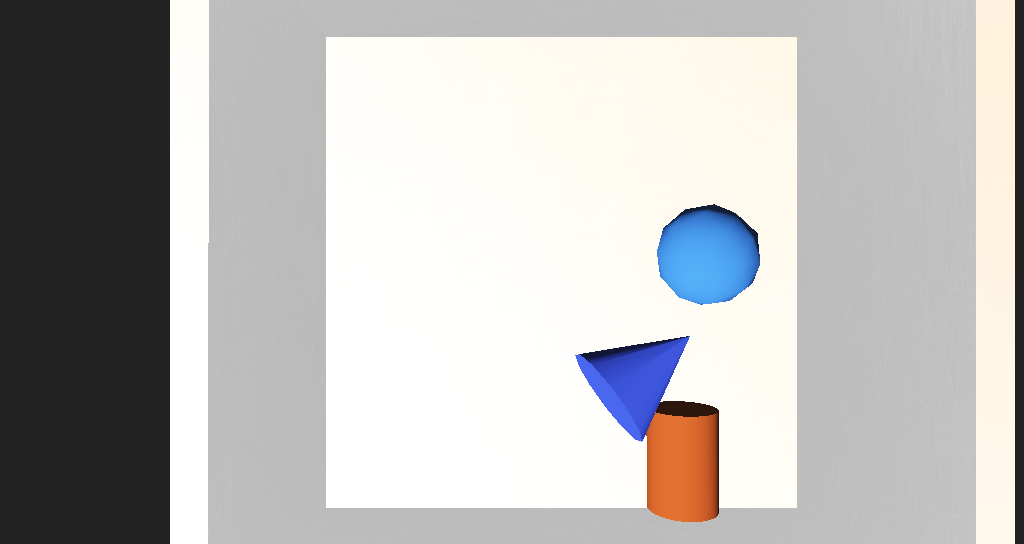cone: (552, 327, 606, 379)
cylinder: (505, 274, 613, 356)
sphere: (559, 241, 627, 284)
